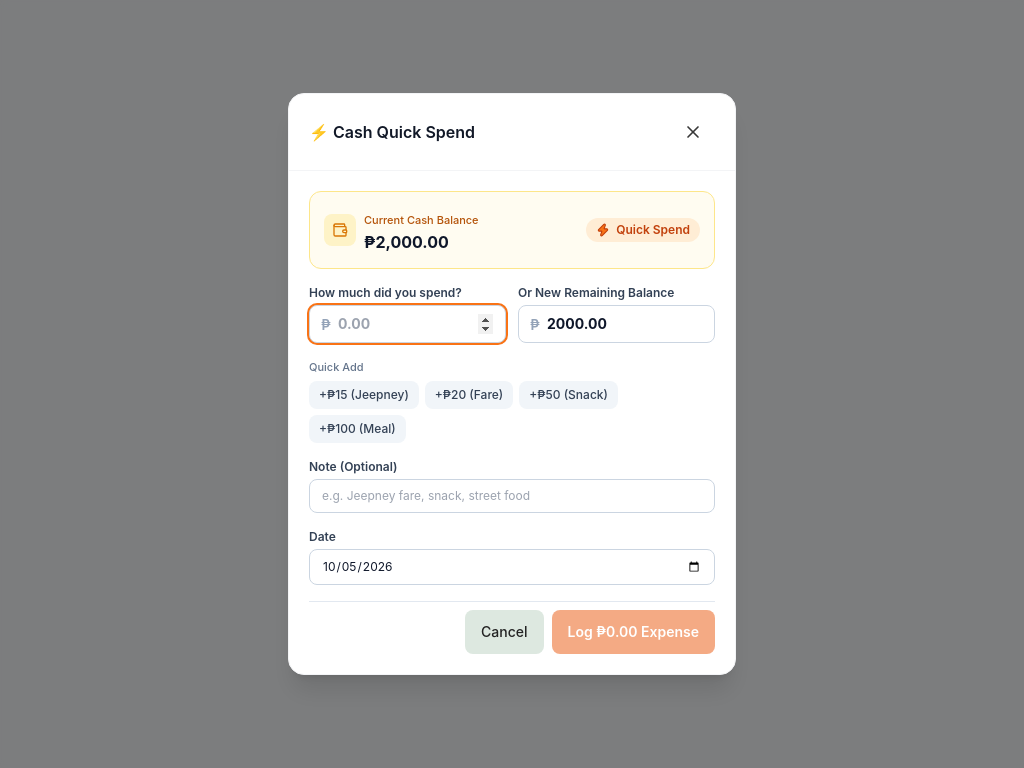
Test case: CashQuickSpendModal › updates remaining balance when amount spent changes
The width and height of the screenshot is (1024, 768).
Type "150" into the number field labelled "How much did you spend?".
click(408, 324); type("150")  # box [309,305,506,343]
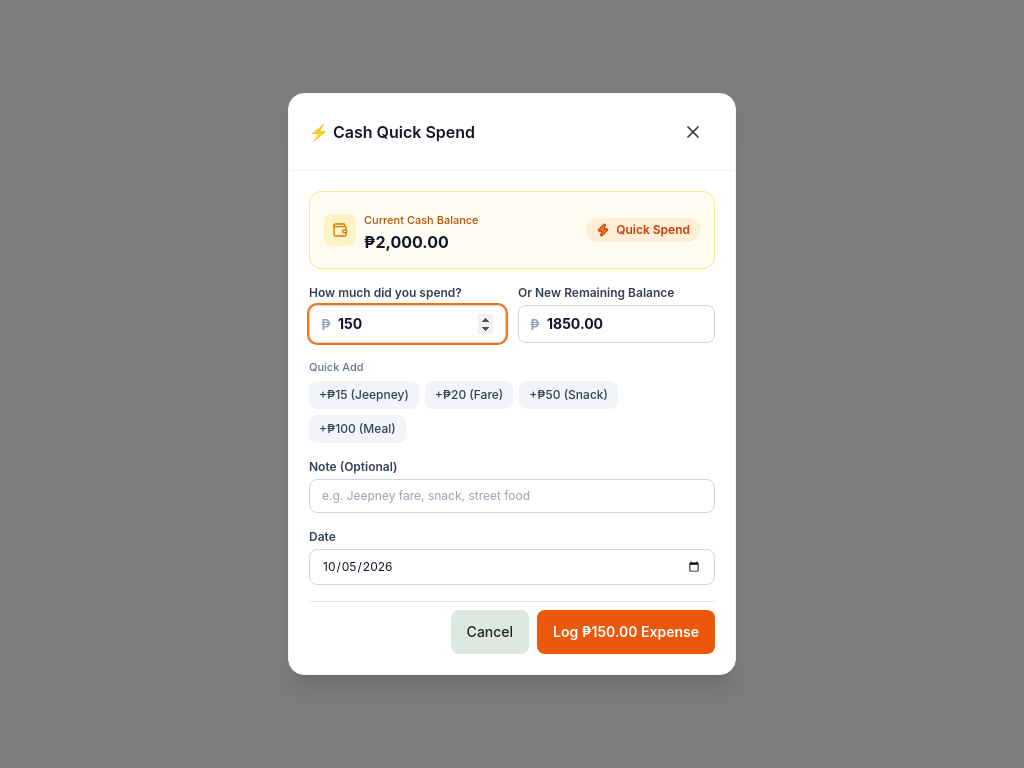
Check: the number field labelled "Or New Remaining Balance" holds "1850.00", box [518,305,715,343]
